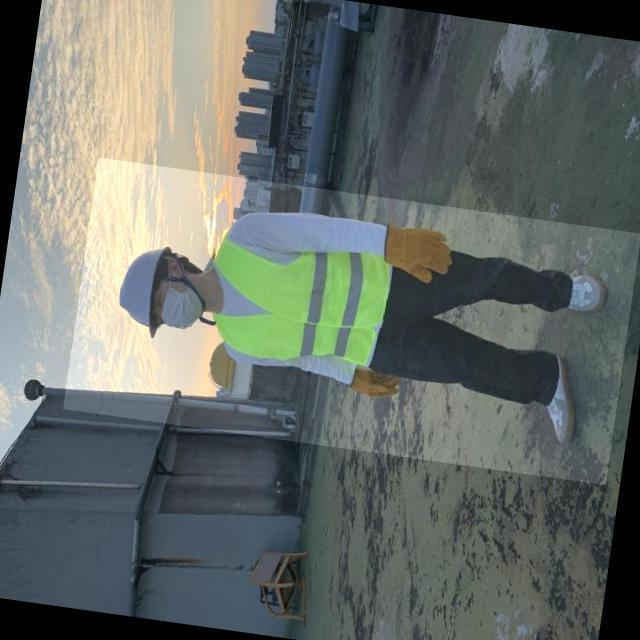Gloves: (384, 220, 457, 290), (349, 356, 411, 404)
Helmet: (107, 239, 182, 346)
Person: (96, 201, 619, 465)
Safety Boot: (534, 349, 590, 455), (558, 272, 608, 318)
Safety Vest: (202, 229, 395, 371)
